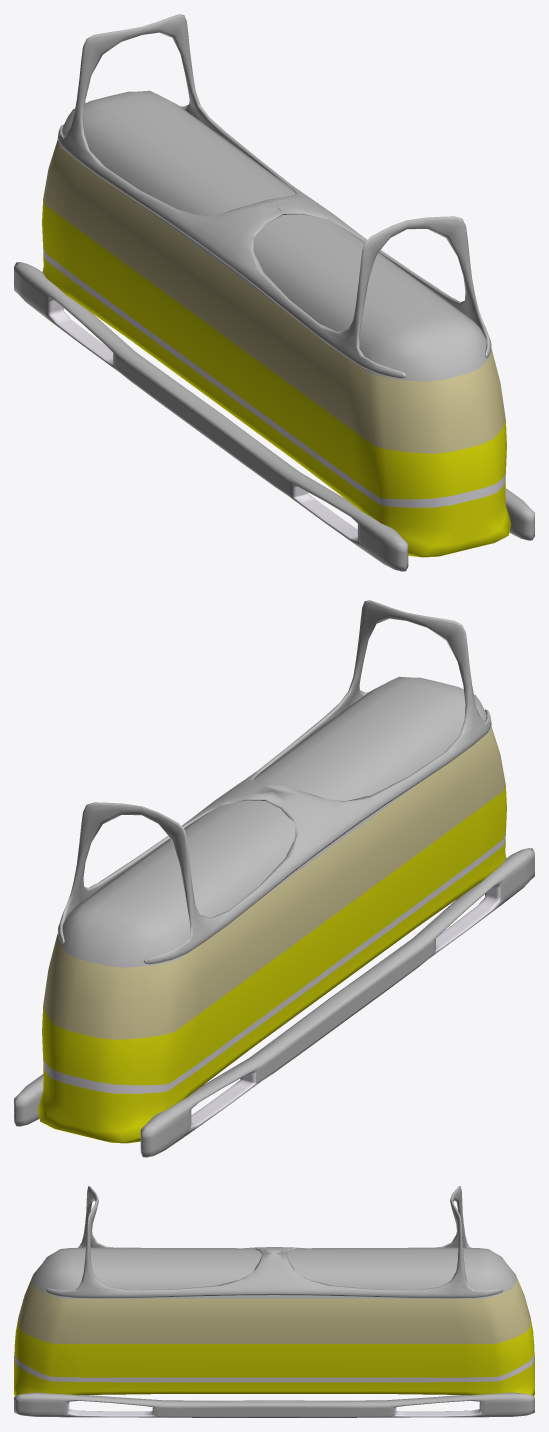
The model's file is tram.fbx.
3 renders of one model, top to bottom at view 1: azimuth 30°, elevation 25°; view 2: azimuth 150°, elevation 25°; view 3: azimuth 270°, elevation 25°, orthographic. The views are drawn at different scales.
Parts seen in each view (by area): view 1: Cube; view 2: Cube; view 3: Cube.
Boxes of the visible parts, x1,y1,x2,y2 form: Cube: (14, 14, 534, 571); Cube: (14, 600, 534, 1157); Cube: (14, 1186, 534, 1417).
Size of the model in its own units: 124 by 243 by 585.
